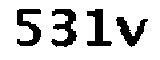1: (84, 8, 115, 48)
3: (45, 6, 77, 51)
5: (11, 6, 44, 51)
v: (116, 15, 148, 49)
